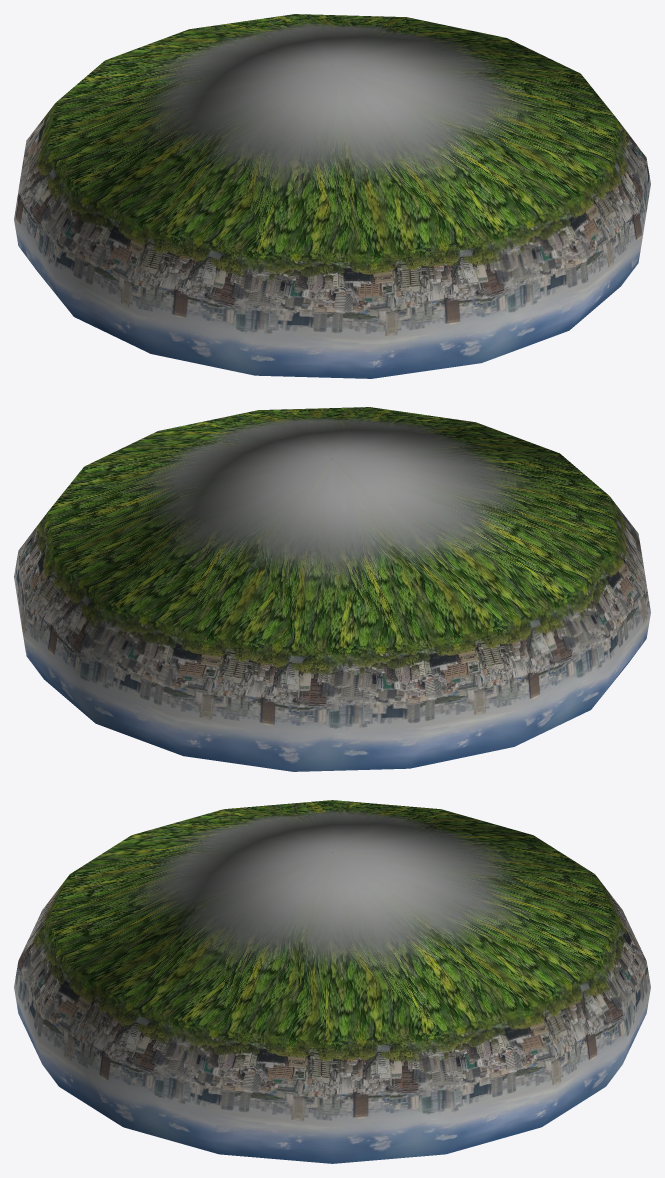
File: Moon.glb
3 renders of one model, top to bottom at view 1: azimuth 30°, elevation 25°; view 2: azimuth 150°, elevation 25°; view 3: azimuth 270°, elevation 25°, orthographic.
Visible parts, largest first — view 1: Moon; view 2: Moon; view 3: Moon.
Part boxes in pixels (x1,y1,x2,y2): Moon: (14, 14, 650, 378); Moon: (14, 407, 650, 771); Moon: (14, 800, 650, 1163).
Size of the model in its own units: 620 by 200 by 620.
Materials: 4 (4 with a texture image).
